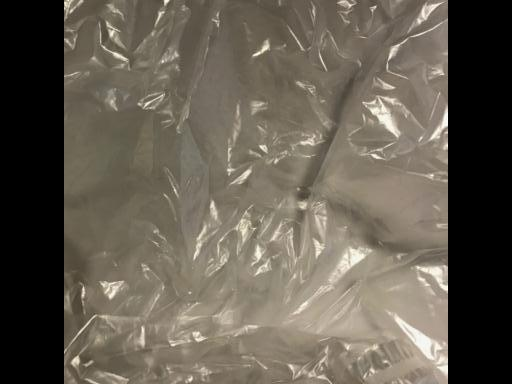trash: (67, 3, 445, 383)
